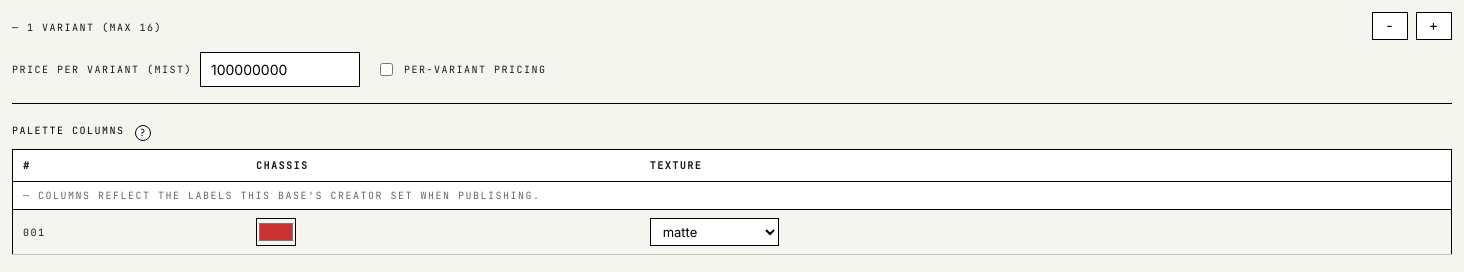
Test: VariantEditor › U7: HelpIcon renders next to the PALETTE COLUMNS heading (R12)
Hover over the button with test id "variant-editor-help" at (142, 133), box [134,125,150,141]
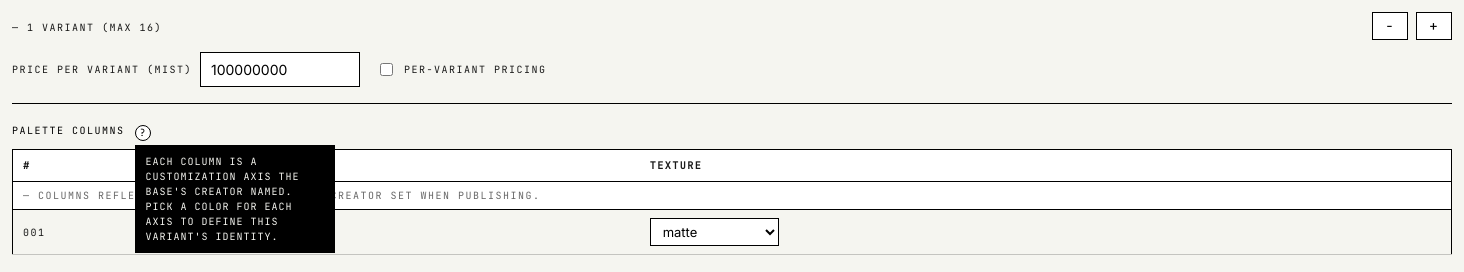
Now the tooltip with test id "variant-editor-help-popover" shows "customization axis", box [146,155,300,243]
